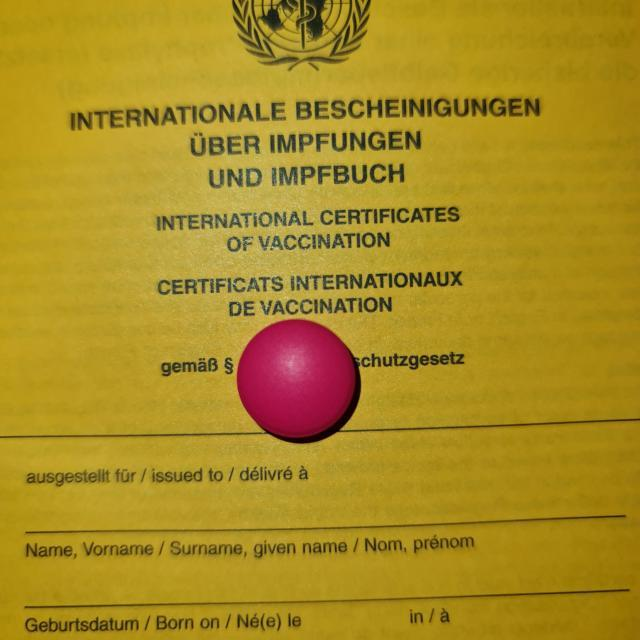pill: (235, 318, 358, 440)
